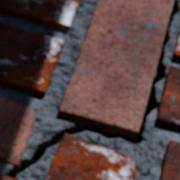brick: (58, 0, 173, 137), (0, 24, 63, 97), (45, 135, 135, 179), (0, 0, 79, 32), (0, 97, 34, 164), (155, 67, 179, 130), (159, 141, 179, 179), (172, 29, 179, 62), (0, 175, 14, 179)
crack: (2, 0, 179, 179)
